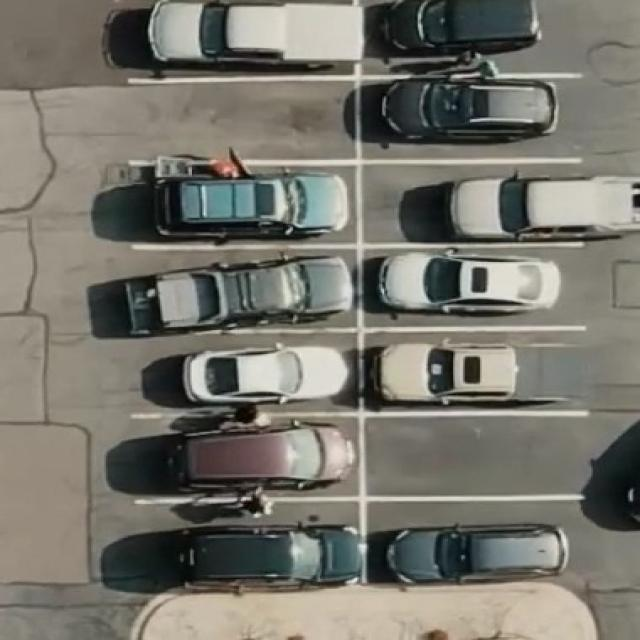space-empty: (362, 409, 591, 504), (125, 74, 357, 165)
space-occupied: (101, 497, 367, 595), (360, 317, 598, 418), (113, 240, 360, 336), (357, 158, 616, 248), (116, 329, 360, 420), (116, 412, 362, 501), (358, 240, 594, 328), (126, 156, 357, 245), (355, 67, 576, 160), (364, 497, 586, 588), (118, 1, 360, 80), (364, 0, 546, 65)
